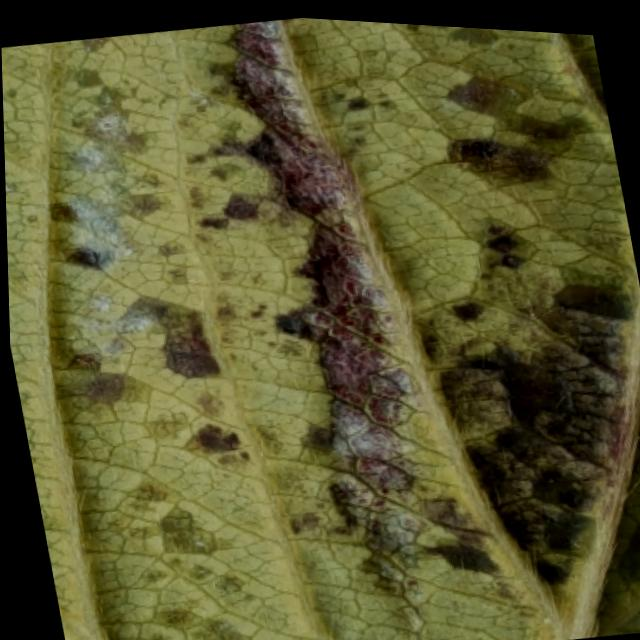Angular Leafspot: (1, 14, 640, 640)
